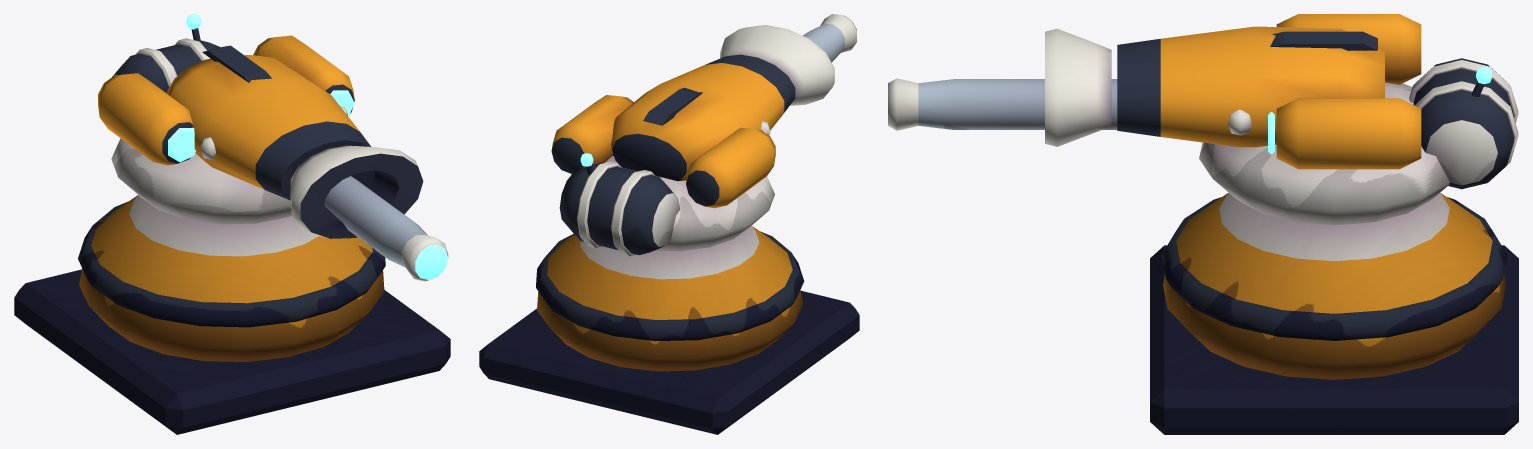
The model's file is R4W_Basic_LOD1.glb.
The picture shows the model from 3 angles, left to right: view 1: azimuth 30°, elevation 25°; view 2: azimuth 150°, elevation 25°; view 3: azimuth 270°, elevation 25°; orthographic projection. The views are drawn at different scales.
Visible parts, largest first — view 1: R4W_Basic_LOD1; view 2: R4W_Basic_LOD1; view 3: R4W_Basic_LOD1.
Part boxes in pixels (x1,y1,x2,y2): R4W_Basic_LOD1: (14, 14, 450, 434); R4W_Basic_LOD1: (479, 14, 859, 434); R4W_Basic_LOD1: (888, 14, 1518, 434).
Bounding box in the file's own units: 0.51 × 0.496 × 0.872.
5 materials, 4 textured.
